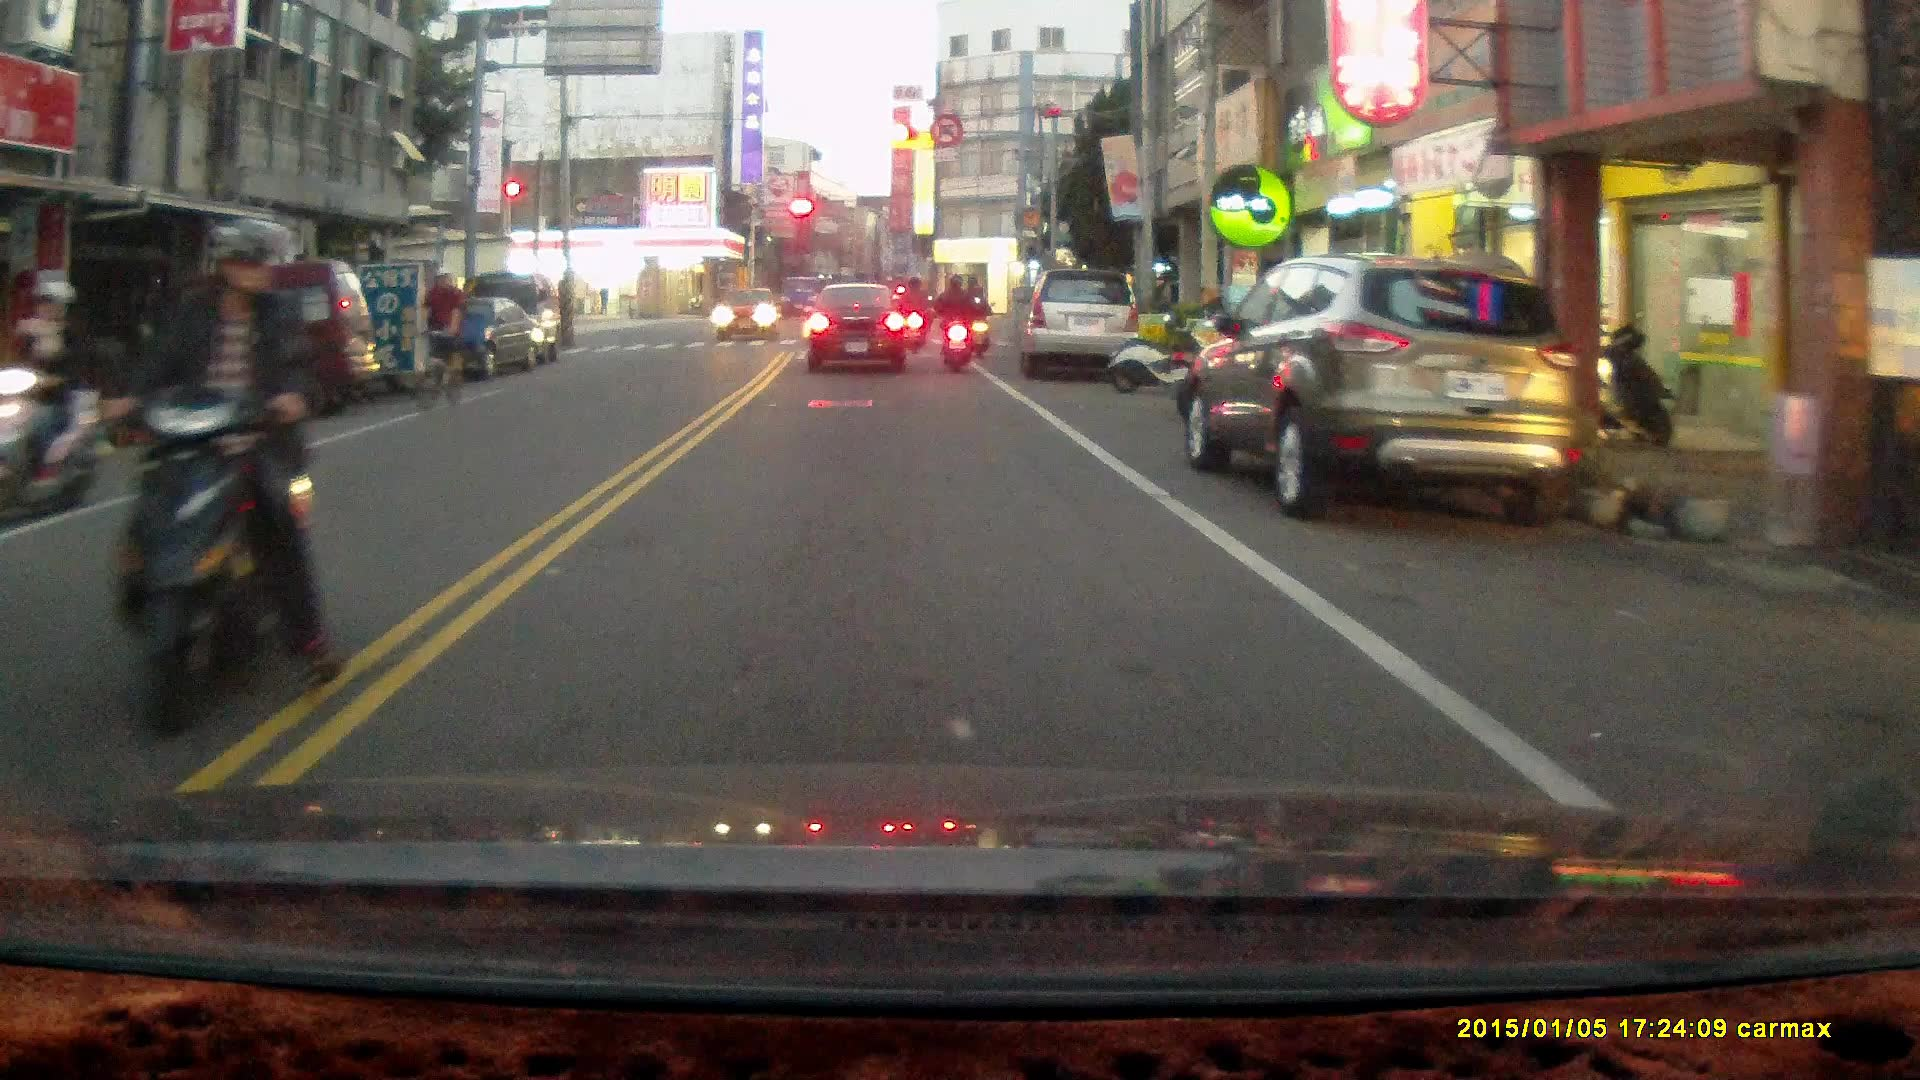rider: (108, 216, 345, 739), (0, 280, 103, 524), (415, 269, 465, 414), (929, 271, 977, 376), (896, 274, 930, 355), (961, 281, 991, 358)
vehicle: (1184, 254, 1575, 531), (110, 262, 383, 429), (1025, 270, 1146, 384), (418, 297, 542, 383), (810, 282, 914, 372), (710, 284, 778, 340)
